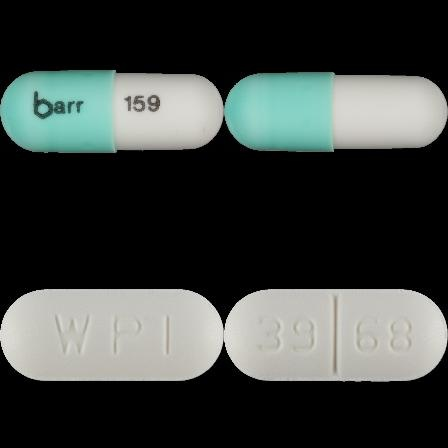66267-051: (0, 0, 224, 224)
